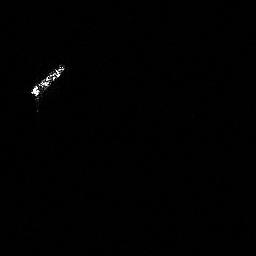ship: (29, 62, 67, 113)
